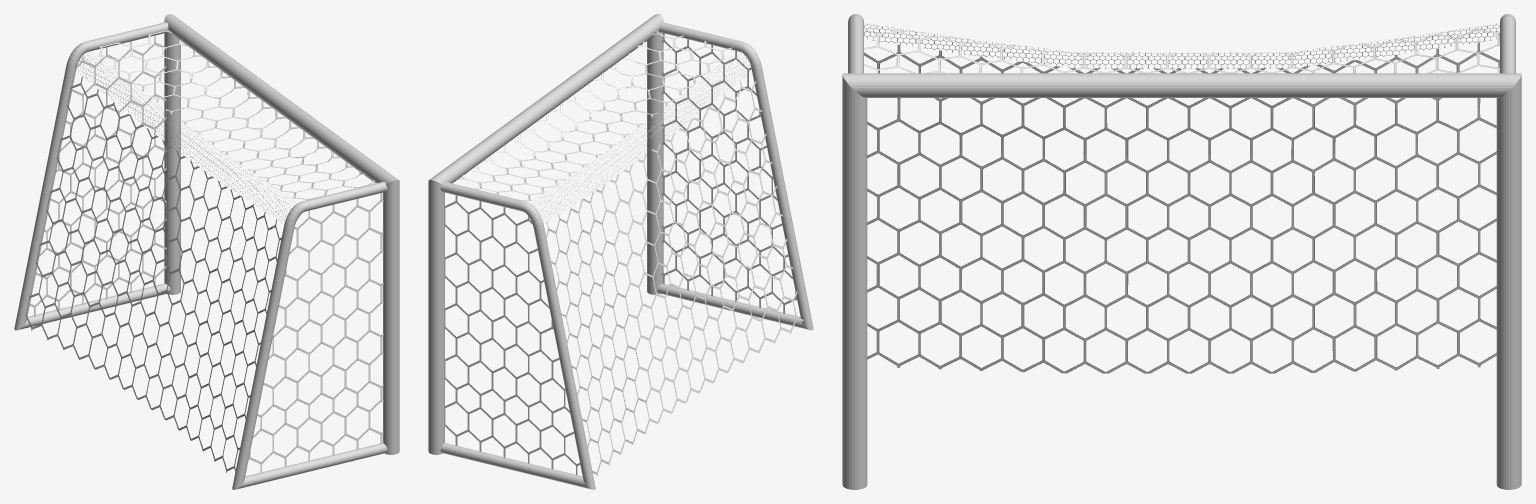
File: portabella.dae
3 views of the same model, side by side, from view 1: azimuth 30°, elevation 25°; view 2: azimuth 150°, elevation 25°; view 3: azimuth 270°, elevation 25° (orthographic). The views are drawn at different scales.
Visible parts, largest first — view 1: Shape01; view 2: Shape01; view 3: Shape01.
Boxes of the visible parts, x1,y1,x2,y2 form: Shape01: [14, 14, 399, 489]; Shape01: [428, 14, 813, 489]; Shape01: [842, 14, 1521, 489].
Size of the model in its own units: 1.26 by 3 by 2.
Materials: 1 (1 with a texture image).
